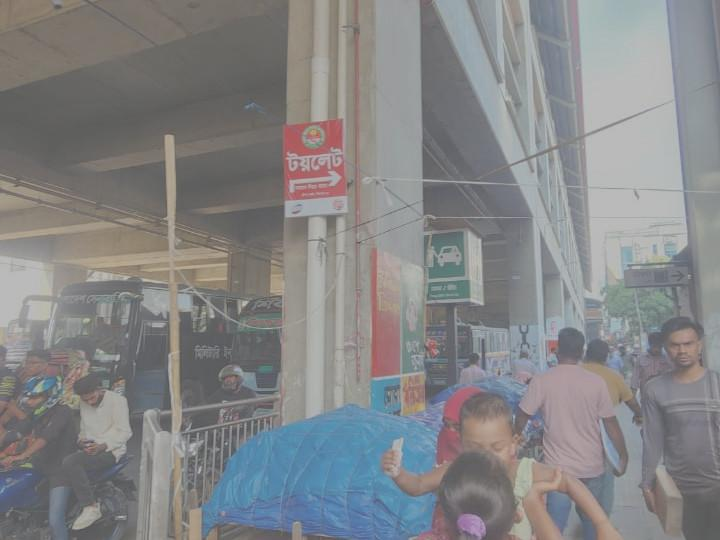Metro Dorp Up Pick up: (424, 227, 483, 305)
